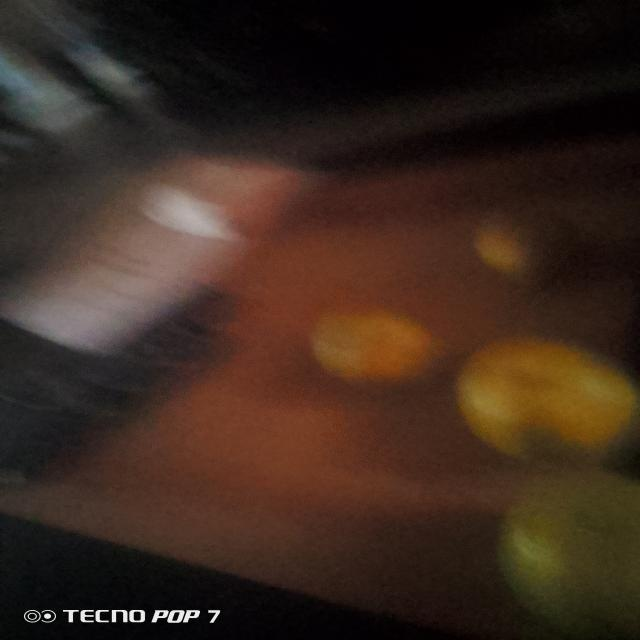agrume: (452, 333, 638, 467), (486, 474, 640, 631), (314, 310, 426, 394)
